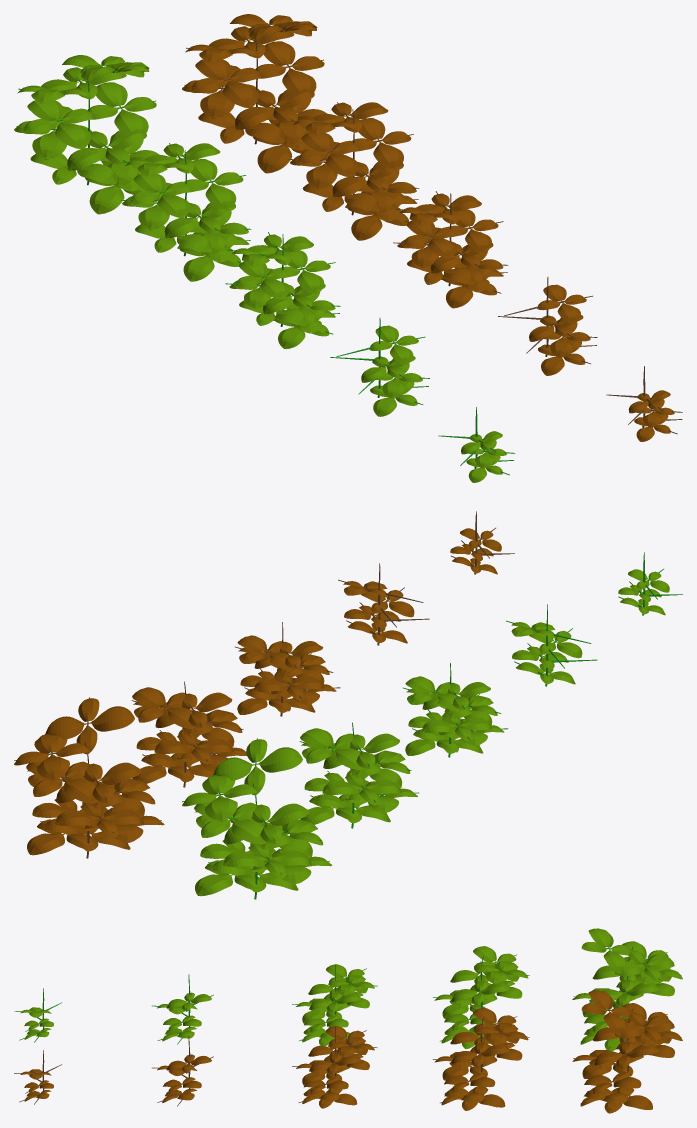
Rendered from Basilic.glb.
The picture shows the model from 3 angles, top to bottom: view 1: azimuth 30°, elevation 25°; view 2: azimuth 150°, elevation 25°; view 3: azimuth 270°, elevation 25°; orthographic projection. The views are drawn at different scales.
Visible parts, largest first — view 1: BézierCurveBourgeons.004, BézierCurveBourgeons.009, BézierCurveBourgeons.003, BézierCurveBourgeons.008, BézierCurveBourgeons.002, BézierCurveBourgeons.007, BézierCurveBourgeons.001, BézierCurveBourgeons.006, BézierCurveBourgeons, BézierCurveBourgeons.005; view 2: BézierCurveBourgeons.004, BézierCurveBourgeons.009, BézierCurveBourgeons.003, BézierCurveBourgeons.008, BézierCurveBourgeons.007, BézierCurveBourgeons.002, BézierCurveBourgeons.006, BézierCurveBourgeons.001, BézierCurveBourgeons, BézierCurveBourgeons.005; view 3: BézierCurveBourgeons.009, BézierCurveBourgeons.004, BézierCurveBourgeons.008, BézierCurveBourgeons.003, BézierCurveBourgeons.007, BézierCurveBourgeons.002, BézierCurveBourgeons.006, BézierCurveBourgeons.001, BézierCurveBourgeons, BézierCurveBourgeons.005.
Boxes of the visible parts, <box> form: BézierCurveBourgeons.004: <box>14,55,158,214</box>; BézierCurveBourgeons.009: <box>182,14,326,173</box>; BézierCurveBourgeons.003: <box>121,143,251,281</box>; BézierCurveBourgeons.008: <box>288,102,419,240</box>; BézierCurveBourgeons.002: <box>225,232,340,349</box>; BézierCurveBourgeons.007: <box>393,191,508,308</box>; BézierCurveBourgeons.001: <box>330,318,429,416</box>; BézierCurveBourgeons.006: <box>498,277,597,375</box>; BézierCurveBourgeons: <box>438,407,515,482</box>; BézierCurveBourgeons.005: <box>606,366,682,441</box>; BézierCurveBourgeons.004: <box>182,738,332,899</box>; BézierCurveBourgeons.009: <box>14,697,164,858</box>; BézierCurveBourgeons.003: <box>299,722,418,828</box>; BézierCurveBourgeons.008: <box>131,681,246,787</box>; BézierCurveBourgeons.007: <box>235,622,340,716</box>; BézierCurveBourgeons.002: <box>403,663,508,757</box>; BézierCurveBourgeons.006: <box>338,563,429,645</box>; BézierCurveBourgeons.001: <box>506,604,597,686</box>; BézierCurveBourgeons: <box>618,552,682,615</box>; BézierCurveBourgeons.005: <box>450,511,514,574</box>; BézierCurveBourgeons.009: <box>572,990,682,1113</box>; BézierCurveBourgeons.004: <box>572,928,682,1051</box>; BézierCurveBourgeons.008: <box>432,1008,529,1110</box>; BézierCurveBourgeons.003: <box>433,946,529,1048</box>; BézierCurveBourgeons.007: <box>292,1026,377,1108</box>; BézierCurveBourgeons.002: <box>292,964,377,1045</box>; BézierCurveBourgeons.006: <box>152,1036,213,1106</box>; BézierCurveBourgeons.001: <box>152,974,213,1044</box>; BézierCurveBourgeons: <box>14,988,61,1042</box>; BézierCurveBourgeons.005: <box>14,1050,61,1104</box>.
Bounding box in the file's own units: 1.78 × 0.8069 × 4.58.
